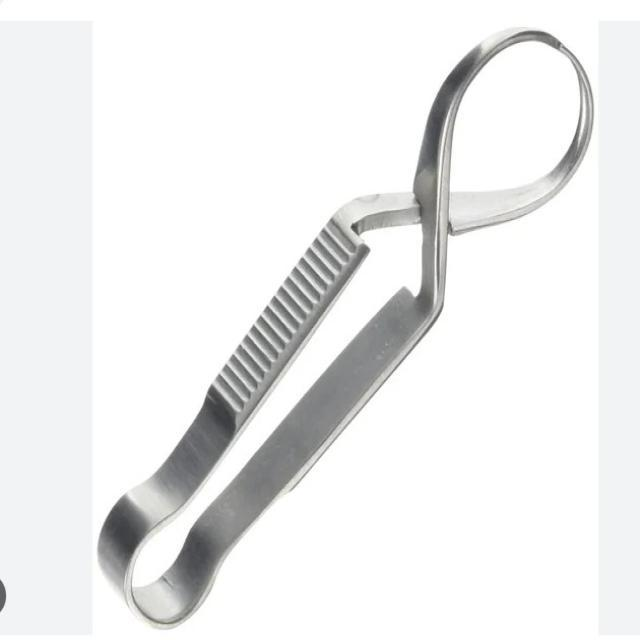Doyen Cross Action Towel Clamp: (92, 21, 598, 630)
